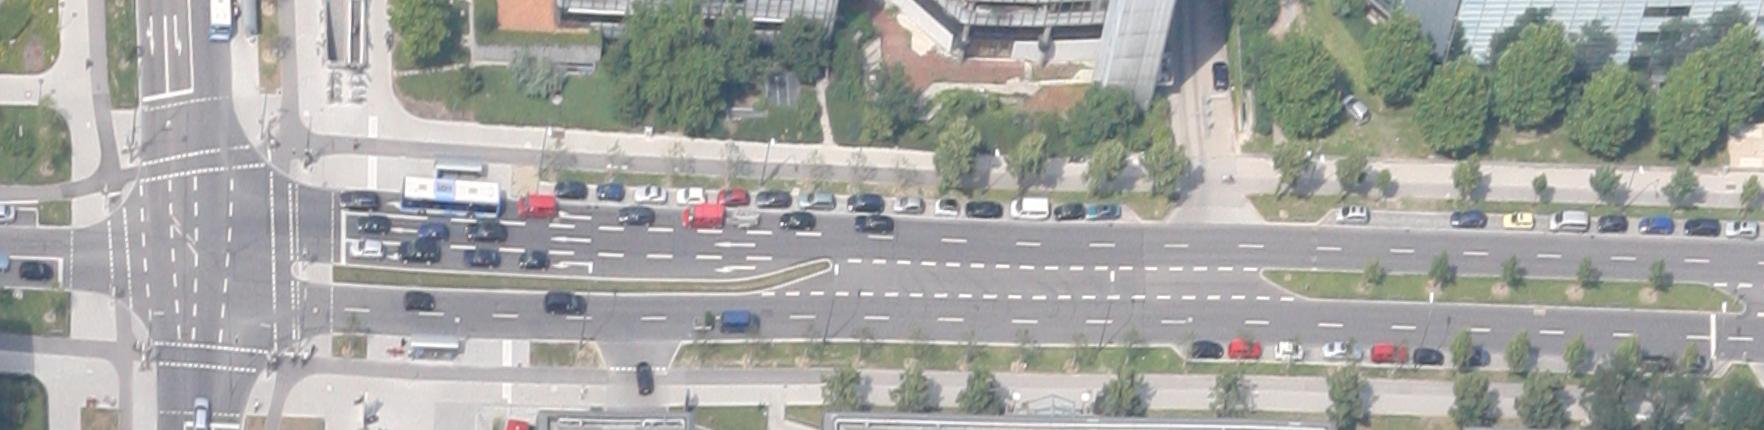car: (1338, 92, 1372, 126), (400, 239, 440, 264), (544, 292, 586, 314), (518, 195, 556, 219), (720, 310, 760, 332), (1548, 209, 1586, 232), (1010, 196, 1048, 219), (465, 222, 507, 242), (682, 206, 722, 227), (853, 214, 893, 234), (350, 237, 384, 260), (339, 189, 378, 209), (463, 247, 500, 268), (1322, 341, 1362, 360), (618, 206, 654, 226), (847, 192, 883, 212), (20, 261, 54, 282), (1638, 214, 1671, 235), (778, 212, 815, 230), (1372, 344, 1408, 362), (1684, 217, 1718, 236), (1725, 218, 1757, 238), (1335, 204, 1367, 224), (717, 186, 749, 206), (966, 200, 1001, 218), (799, 191, 834, 209), (404, 290, 434, 311), (1501, 210, 1533, 229), (1192, 338, 1222, 358), (676, 185, 706, 205), (636, 361, 653, 396), (1450, 210, 1485, 227), (357, 216, 390, 234), (1086, 203, 1120, 220), (1412, 346, 1444, 364), (758, 190, 790, 208), (519, 251, 549, 270), (1275, 340, 1303, 360), (1229, 340, 1260, 358), (555, 180, 586, 198), (1598, 214, 1627, 233), (634, 185, 666, 202), (596, 182, 623, 202), (419, 222, 447, 241), (193, 396, 208, 430), (1212, 61, 1229, 91), (1056, 202, 1082, 220), (893, 196, 922, 212), (732, 211, 758, 228), (934, 197, 957, 216), (691, 314, 714, 332)
